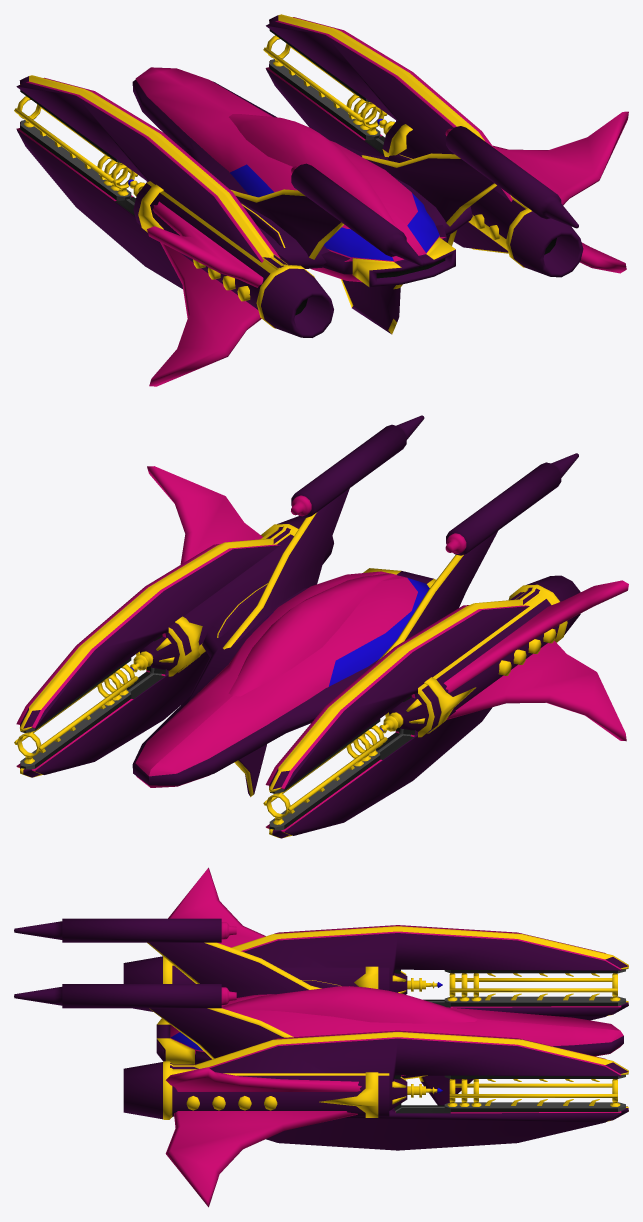
File: AlienStarfighterLowPoly1.obj
3 renders of one model, top to bottom at view 1: azimuth 30°, elevation 25°; view 2: azimuth 150°, elevation 25°; view 3: azimuth 270°, elevation 25°, orthographic. The views are drawn at different scales.
Parts seen in each view (by area): view 1: Cylinder.052_Cylinder.027, Sphere.009_Sphere.001, Cylinder.053_Cylinder.043, Cylinder.057_Cylinder.065, Cube.023_Cube.012, Cube.024_Cube.014, Cube.025_Cube.015, Sphere.010_Sphere.005, Cube.026_Cube.017, Cylinder.056_Cylinder.064, Cylinder.054_Cylinder.045, Cylinder.064_Cylinder.074 (+4 smaller); view 2: Cylinder.052_Cylinder.027, Sphere.009_Sphere.001, Cylinder.053_Cylinder.043, Cylinder.057_Cylinder.065, Cube.024_Cube.014, Cube.023_Cube.012, Cube.025_Cube.015, Sphere.010_Sphere.005, Cylinder.056_Cylinder.064, Cube.026_Cube.017, Cylinder.064_Cylinder.074, Loops.005_Cylinder.081 (+4 smaller); view 3: Cylinder.052_Cylinder.027, Cylinder.053_Cylinder.043, Cylinder.057_Cylinder.065, Sphere.009_Sphere.001, Cube.023_Cube.012, Cube.025_Cube.015, Sphere.010_Sphere.005, Cube.024_Cube.014, Cube.026_Cube.017, Cylinder.064_Cylinder.074, Loops.005_Cylinder.081, Cube.040 (+2 smaller).
Part boxes in pixels (x1,y1,x2,y2): Cylinder.052_Cylinder.027: (16, 14, 512, 288); Sphere.009_Sphere.001: (132, 67, 455, 287); Cylinder.053_Cylinder.043: (128, 118, 583, 337); Cylinder.057_Cylinder.065: (291, 126, 578, 265); Cube.023_Cube.012: (230, 153, 496, 259); Cube.024_Cube.014: (147, 111, 628, 287); Cube.025_Cube.015: (149, 242, 626, 386); Sphere.010_Sphere.005: (229, 114, 396, 227); Cube.026_Cube.017: (20, 29, 380, 200); Cylinder.056_Cylinder.064: (183, 135, 472, 268); Cylinder.054_Cylinder.045: (341, 279, 402, 334); Cylinder.064_Cylinder.074: (14, 46, 387, 182); Cylinder.052_Cylinder.027: (16, 538, 529, 838); Sphere.009_Sphere.001: (132, 568, 435, 787); Cylinder.053_Cylinder.043: (130, 516, 580, 737); Cylinder.057_Cylinder.065: (291, 415, 578, 555); Cube.024_Cube.014: (147, 466, 628, 692); Cube.023_Cube.012: (223, 488, 498, 662); Cube.025_Cube.015: (446, 640, 626, 741); Sphere.010_Sphere.005: (228, 573, 396, 696); Cylinder.056_Cylinder.064: (188, 587, 379, 732); Cube.026_Cube.017: (20, 658, 380, 830); Cylinder.064_Cylinder.074: (14, 676, 387, 811); Loops.005_Cylinder.081: (175, 616, 476, 733); Cylinder.052_Cylinder.027: (194, 925, 628, 1150); Cylinder.053_Cylinder.043: (123, 956, 442, 1119); Cylinder.057_Cylinder.065: (14, 918, 236, 1008); Sphere.009_Sphere.001: (156, 994, 623, 1076); Cube.023_Cube.012: (147, 942, 321, 1059); Cube.025_Cube.015: (165, 1111, 357, 1207); Sphere.010_Sphere.005: (221, 986, 477, 1023); Cube.024_Cube.014: (166, 867, 361, 1091); Cube.026_Cube.017: (444, 969, 625, 1112); Cylinder.064_Cylinder.074: (449, 978, 617, 1097); Loops.005_Cylinder.081: (319, 966, 378, 1117); Cube.040: (419, 1075, 473, 1105).
Bounding box in the file's own units: 6.19 × 2.34 × 7.87.
